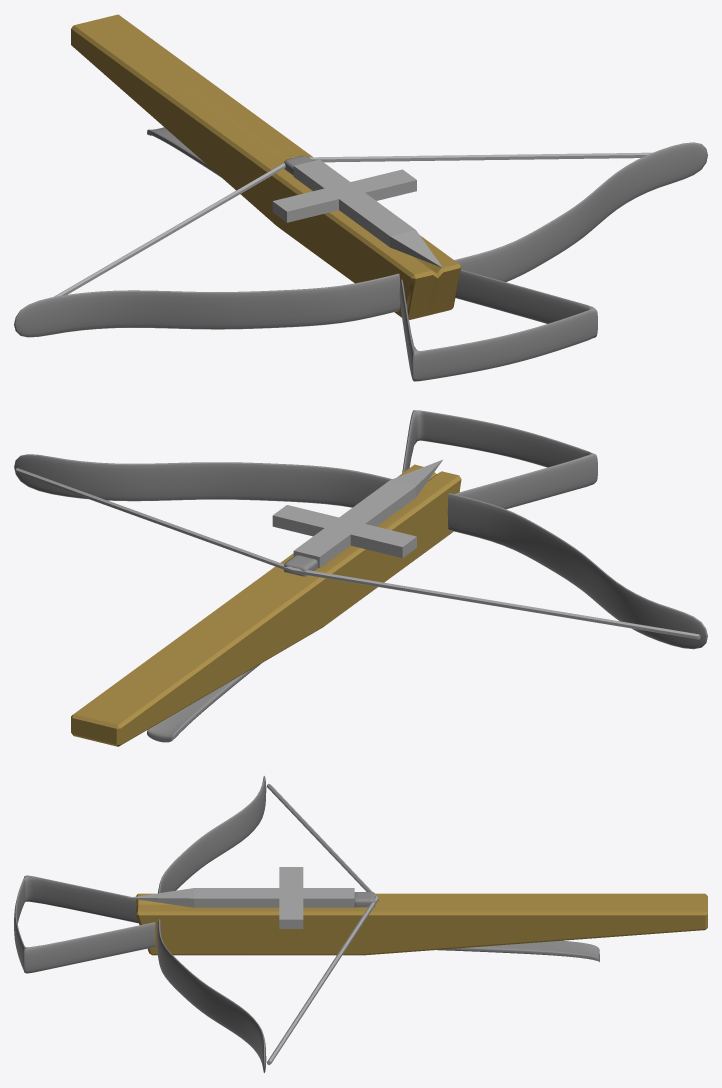
The model's file is crossbow_loaded.fbx.
3 views of the same model, one above another, from view 1: azimuth 30°, elevation 25°; view 2: azimuth 150°, elevation 25°; view 3: azimuth 270°, elevation 25° (orthographic). The views are drawn at different scales.
Parts seen in each view (by area): view 1: pCube1, pCube4, pCube3, cross, pCylinder1, pCube2; view 2: pCube1, pCube4, pCube3, cross, pCylinder1, pCube2; view 3: pCube1, pCube3, pCube4, cross, pCylinder1, pCube2.
Part boxes in pixels (left/top/right/bottom): pCube1: left=71, top=14, right=461, bottom=319; pCube4: left=14, top=142, right=707, bottom=337; pCube3: left=399, top=269, right=597, bottom=381; cross: left=272, top=159, right=442, bottom=267; pCylinder1: left=54, top=152, right=652, bottom=296; pCube2: left=147, top=127, right=220, bottom=176; pCube1: left=71, top=464, right=461, bottom=746; pCube4: left=14, top=454, right=707, bottom=649; pCube3: left=402, top=410, right=597, bottom=509; cross: left=272, top=459, right=442, bottom=567; pCylinder1: left=15, top=468, right=700, bottom=639; pCube2: left=147, top=663, right=261, bottom=742; pCube1: left=136, top=893, right=707, bottom=955; pCube3: left=14, top=875, right=155, bottom=973; pCube4: left=157, top=776, right=266, bottom=1072; cross: left=127, top=867, right=354, bottom=928; pCylinder1: left=267, top=784, right=378, bottom=1064; pCube2: left=437, top=940, right=599, bottom=961.
Size of the model in its own units: 13.88 by 1.53 by 14.45.
